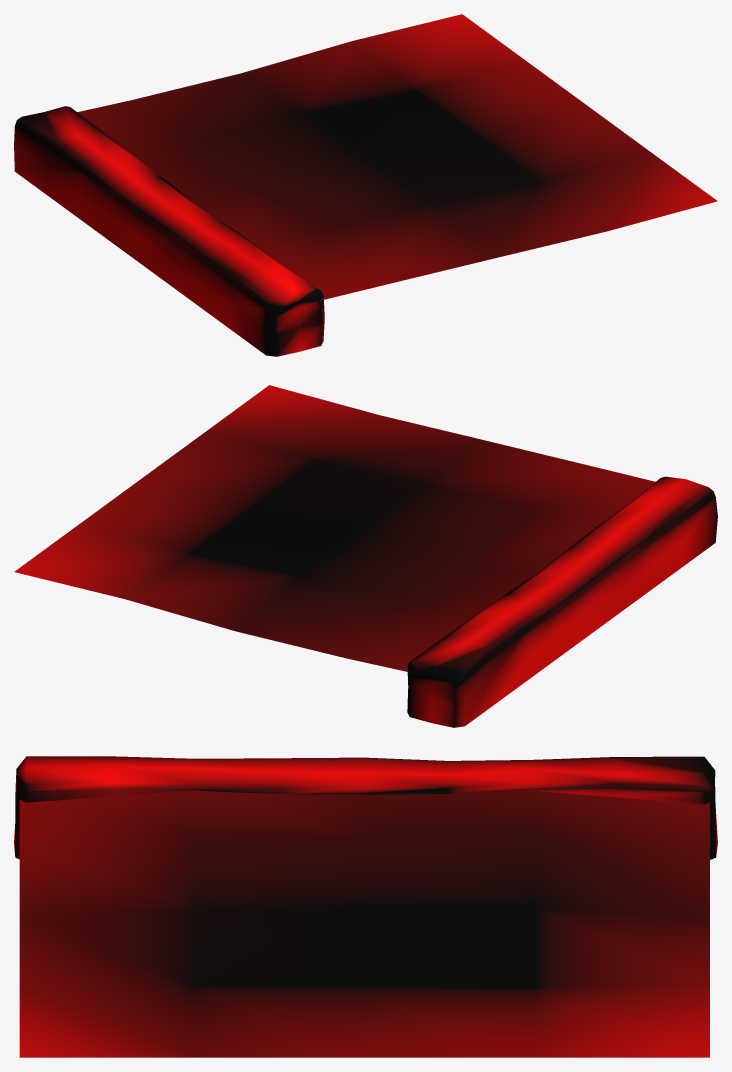
The model's file is alley_walkway_2x2.fbx.
3 renders of one model, top to bottom at view 1: azimuth 30°, elevation 25°; view 2: azimuth 150°, elevation 25°; view 3: azimuth 270°, elevation 25°, orthographic. The views are drawn at different scales.
Visible parts, largest first — view 1: alley_walkway_2x2; view 2: alley_walkway_2x2; view 3: alley_walkway_2x2.
Part boxes in pixels (box(x1,y1,x2,y2)): alley_walkway_2x2: box(14, 14, 717, 356); alley_walkway_2x2: box(14, 385, 717, 727); alley_walkway_2x2: box(14, 756, 717, 1057).
Bounding box in the file's own units: 2.04 × 0.2437 × 2.04.
